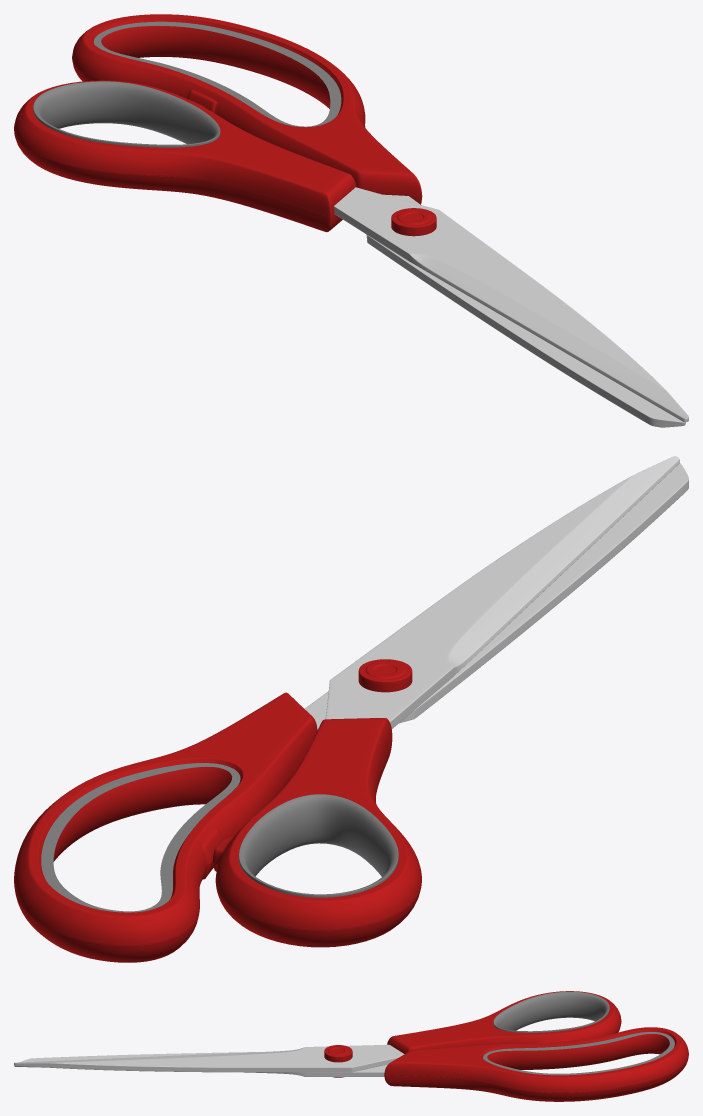
The model's file is Scissor_sketchfab.fbx_Scene.fbx.
The picture shows the model from 3 angles, top to bottom: view 1: azimuth 30°, elevation 25°; view 2: azimuth 150°, elevation 25°; view 3: azimuth 270°, elevation 25°; orthographic projection. The views are drawn at different scales.
Visible parts, largest first — view 1: handle big, handle small, blade small, handle small rubber, blade big, handle big rubber, screw axle; view 2: handle big, blade small, handle small, handle small rubber, blade big, handle big rubber, screw axle; view 3: handle big, blade small, handle small, handle small rubber, blade big, handle big rubber, screw axle.
Boxes of the visible parts, x1,y1,x2,y2 form: handle big: (72,14,422,204); handle small: (14,80,356,232); blade small: (334,187,688,422); handle small rubber: (33,81,220,147); blade big: (366,194,685,427); handle big rubber: (93,21,341,127); screw axle: (391,208,436,236); handle big: (14,692,317,962); blade small: (325,456,679,728); handle small: (212,718,421,947); handle small rubber: (238,794,398,897); blade big: (304,463,688,729); handle big rubber: (41,763,240,912); screw axle: (358,659,412,692); handle big: (384,1027,688,1101); blade small: (14,1044,404,1072); handle small: (387,991,621,1053); handle small rubber: (493,991,609,1032); blade big: (14,1052,387,1076); handle big rubber: (483,1032,674,1075); screw axle: (324,1045,352,1077).
Size of the model in its own units: 81.27 by 10.56 by 249.
